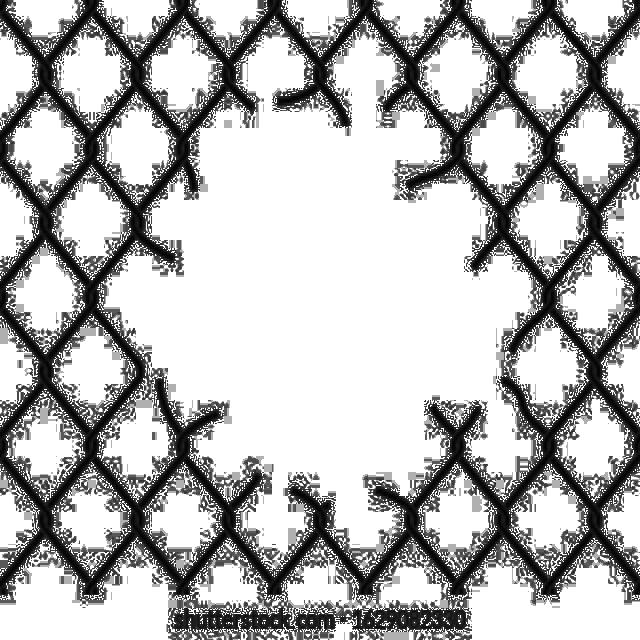anomaly-fence: (72, 62, 582, 526)
